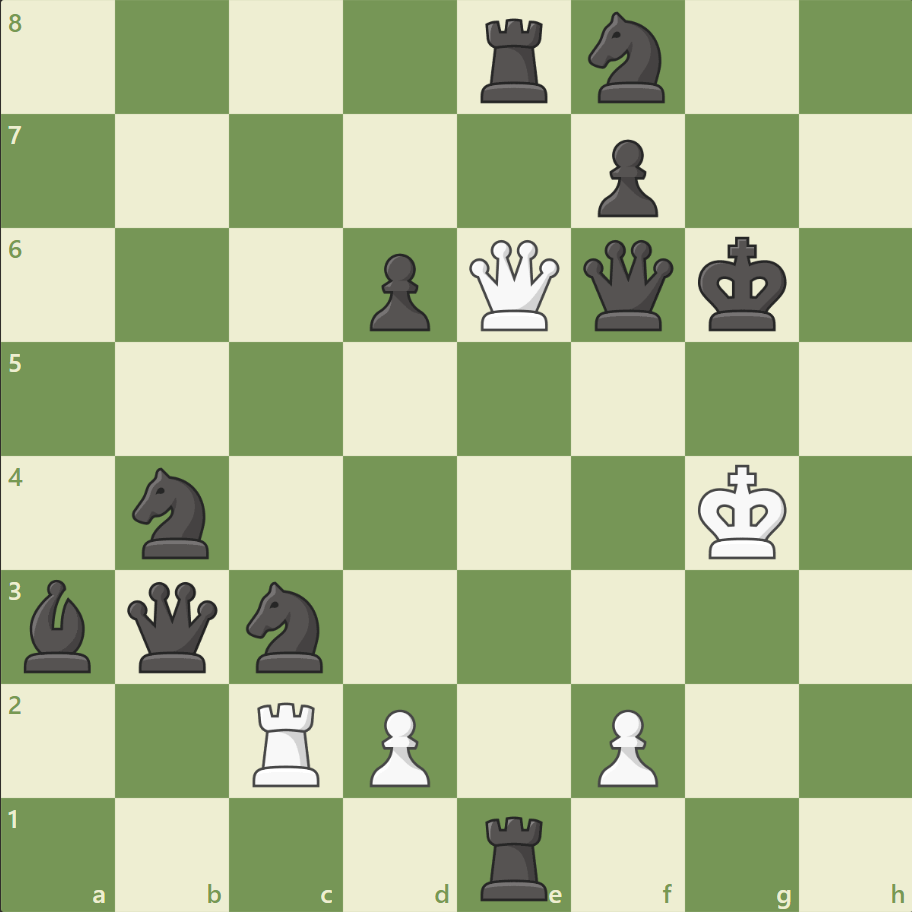K: (692, 458, 792, 566)
P: (361, 700, 435, 791), (588, 700, 662, 791)
Q: (464, 236, 563, 335)
R: (246, 693, 329, 790)
b: (17, 574, 101, 676)
k: (692, 231, 792, 339)
n: (124, 461, 222, 564), (579, 7, 676, 110), (238, 575, 335, 677)
p: (588, 132, 662, 223), (361, 246, 435, 337)
q: (124, 576, 223, 676), (578, 236, 677, 335)
r: (473, 806, 556, 904), (473, 12, 556, 109)
